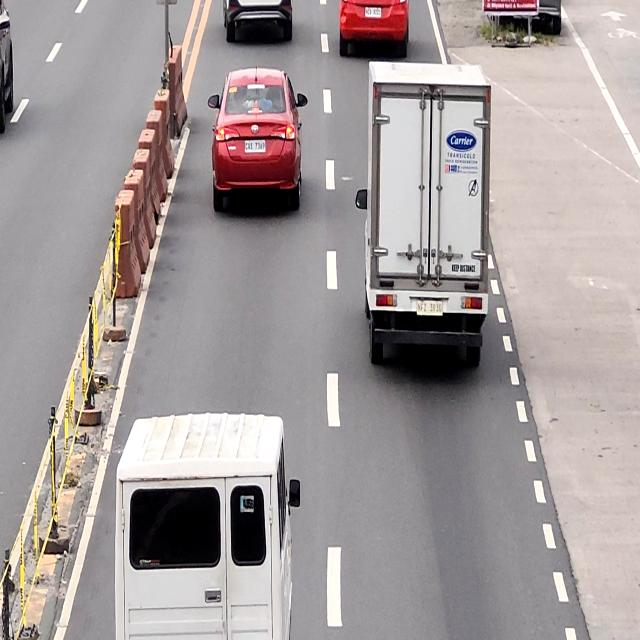Car: (114, 412, 300, 640), (209, 68, 308, 210), (338, 0, 412, 58), (223, 0, 294, 43)
License-Plate: (416, 299, 444, 317), (244, 140, 267, 154), (364, 6, 382, 18)
Truck: (356, 64, 494, 368)
